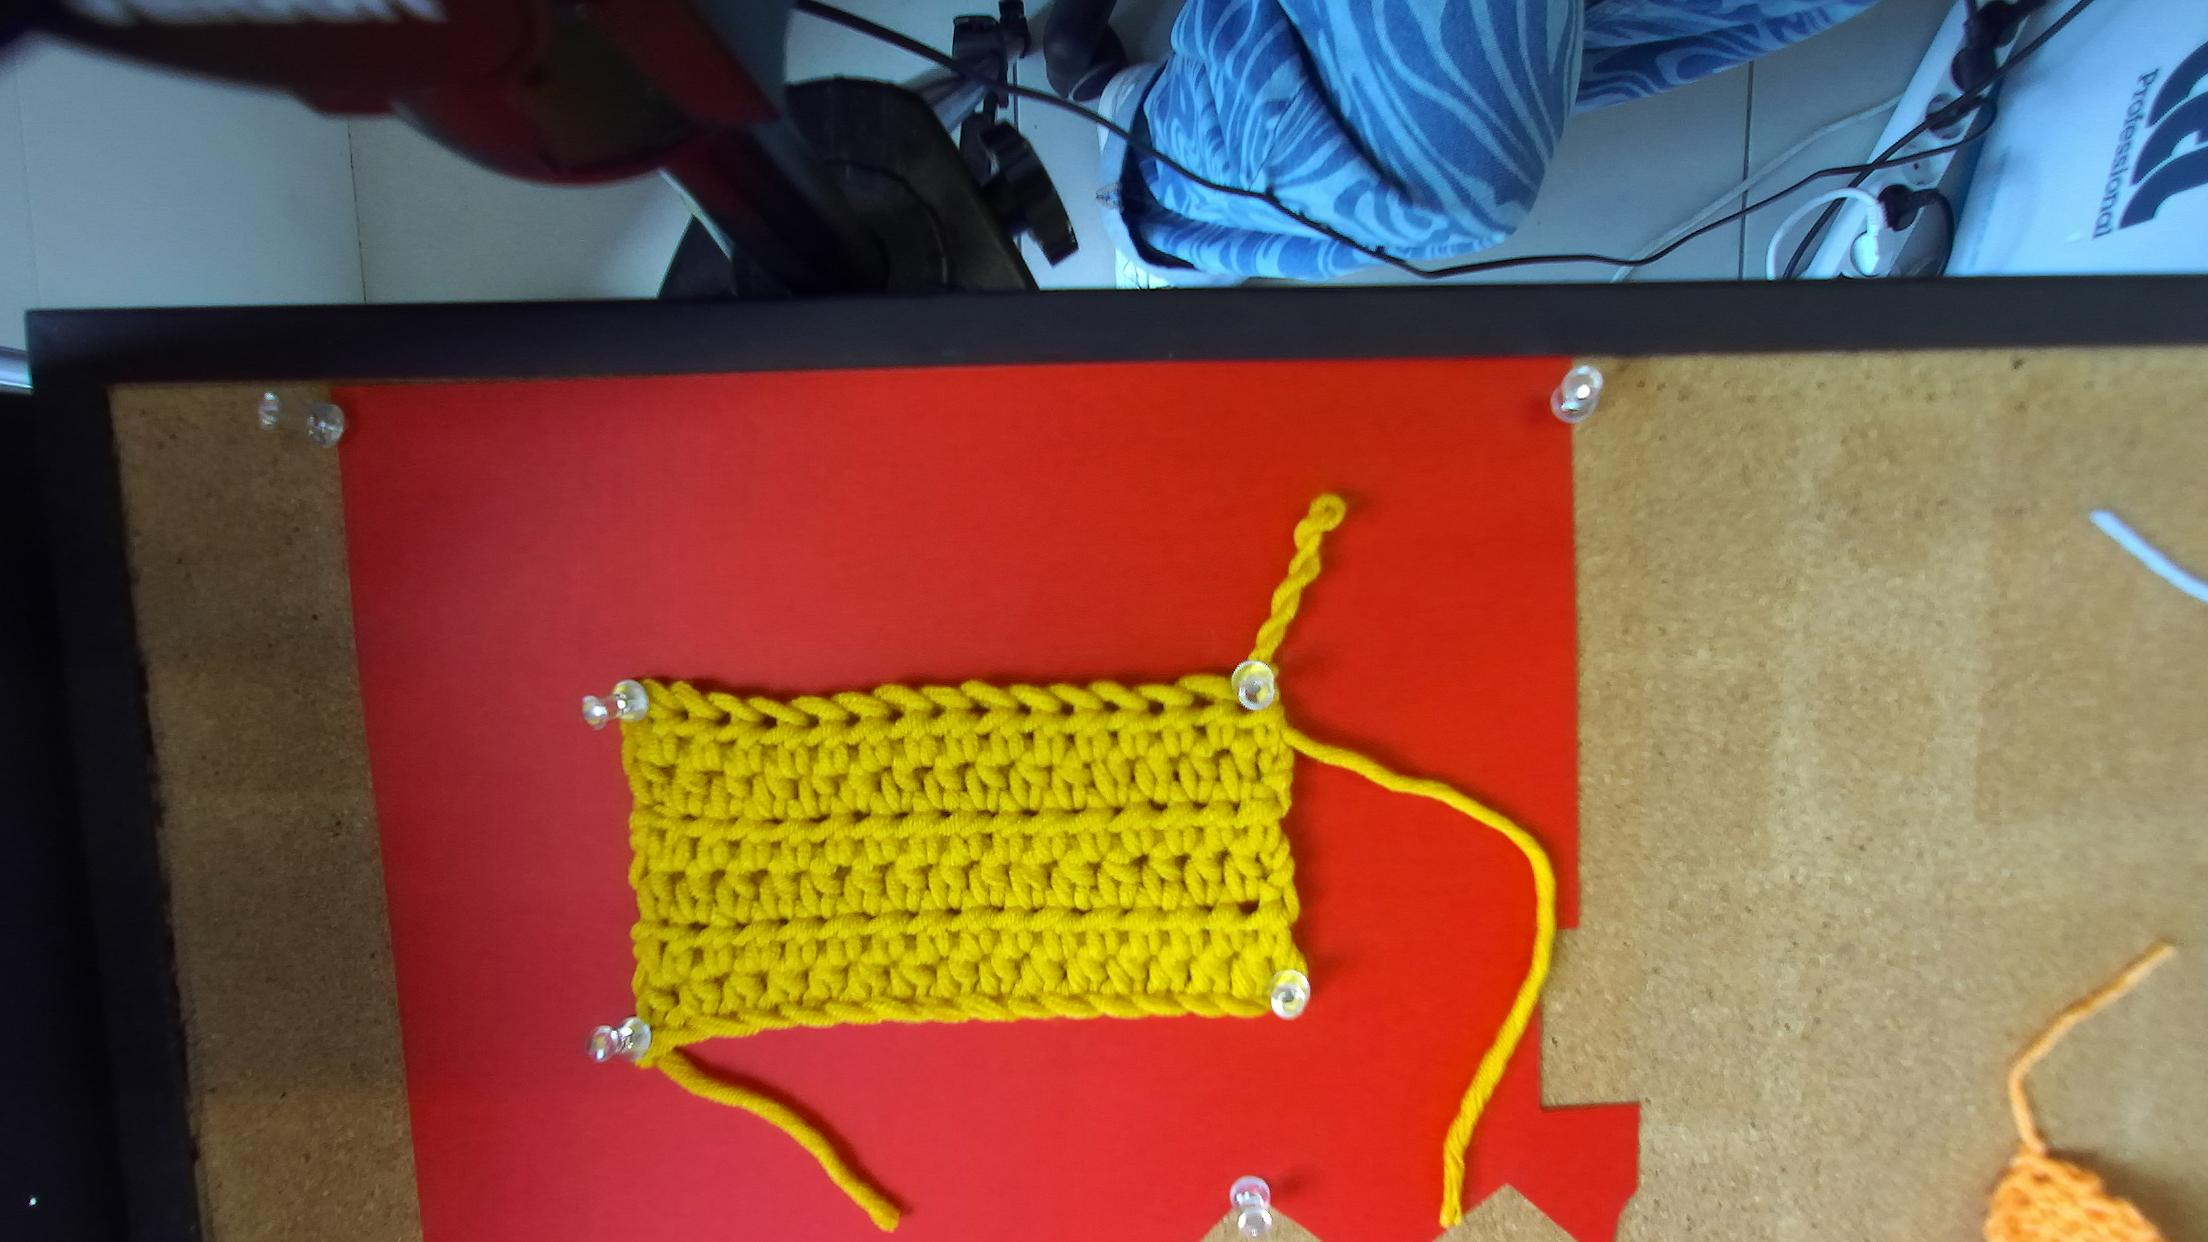hole: (1186, 693, 1218, 713), (887, 702, 908, 725), (964, 701, 992, 717), (754, 714, 778, 731), (840, 711, 864, 728), (710, 710, 732, 726), (1011, 699, 1031, 717), (1146, 698, 1165, 717), (1055, 701, 1074, 719), (1236, 698, 1254, 714), (675, 702, 688, 722), (1101, 699, 1122, 711), (802, 714, 819, 729), (930, 704, 945, 719)
swatch: (578, 658, 1313, 1071)
